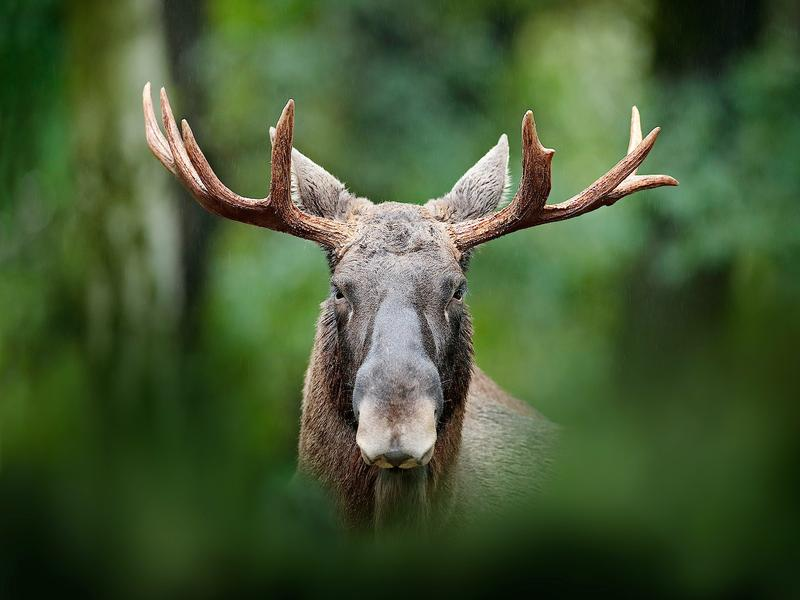elk: (133, 88, 680, 591)
